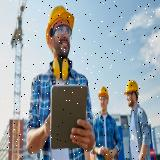Helmet: (46, 5, 75, 50), (124, 80, 140, 96), (98, 86, 109, 102)
